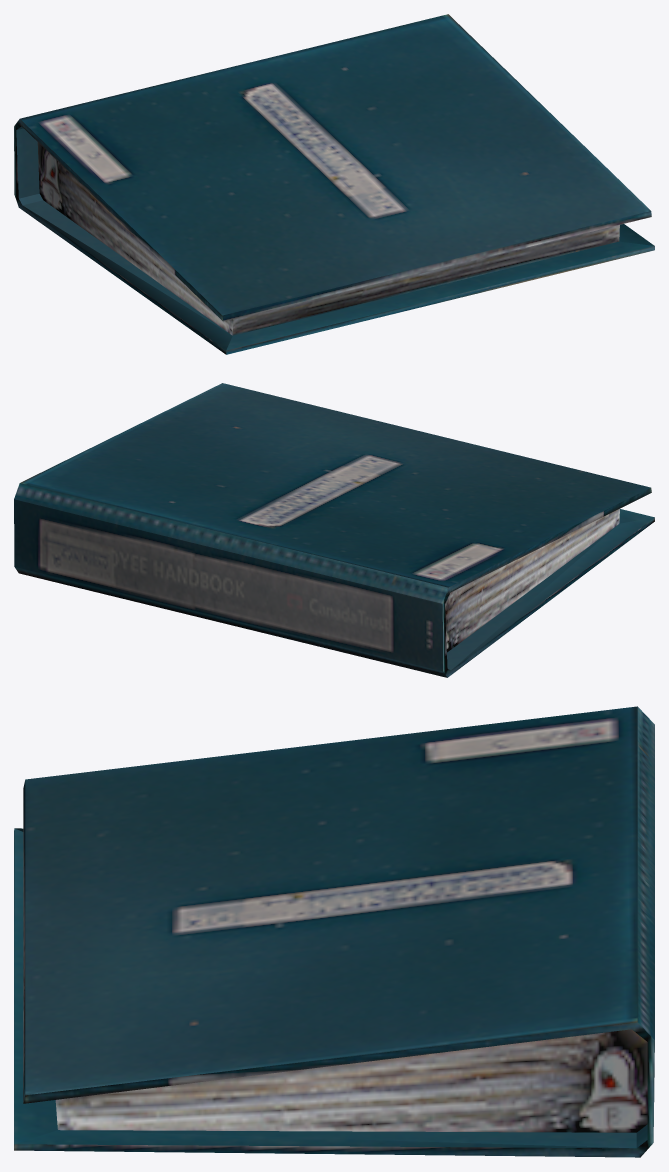
Rendered from binder-5.FBX.
The picture shows the model from 3 angles, top to bottom: view 1: azimuth 30°, elevation 25°; view 2: azimuth 150°, elevation 25°; view 3: azimuth 270°, elevation 25°; orthographic projection. The views are drawn at different scales.
Parts seen in each view (by area): view 1: Line01; view 2: Line01; view 3: Line01.
Boxes of the visible parts, left/top/right/bottom form: Line01: left=14, top=14, right=654, bottom=354; Line01: left=14, top=383, right=654, bottom=677; Line01: left=14, top=706, right=654, bottom=1157.
Size of the model in its own units: 12.93 by 2.58 by 11.09.
